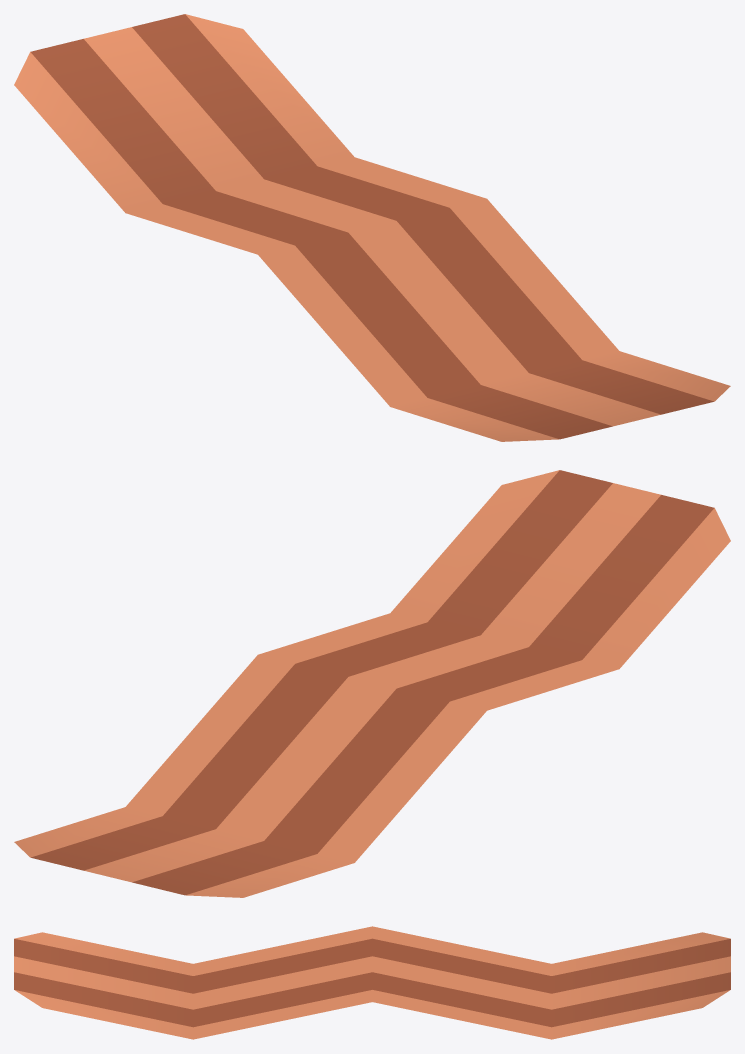
File: food-bacon.glb
3 views of the same model, one above another, from view 1: azimuth 30°, elevation 25°; view 2: azimuth 150°, elevation 25°; view 3: azimuth 270°, elevation 25° (orthographic). The views are drawn at different scales.
Visible parts, largest first — view 1: bacon; view 2: bacon; view 3: bacon.
Part boxes in pixels (x1=…): bacon: x1=14, y1=14, x2=730, y2=441; bacon: x1=14, y1=470, x2=730, y2=897; bacon: x1=14, y1=926, x2=730, y2=1039.
Size of the model in its own units: 0.13 by 0.03 by 0.52.
Materials: 1 (1 with a texture image).
